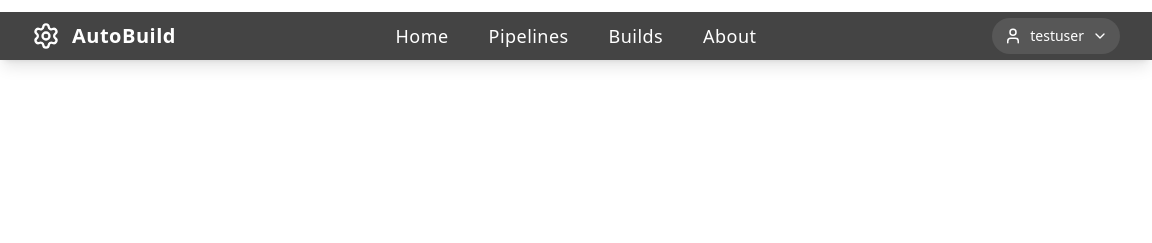
Test: NavBar › Profile Dropdown Menu › closes dropdown when profile button is clicked again
Expected: the text "testuser" is shown, left=1030, top=26, right=1084, bottom=46
Open dropdown
Click the button "testuser": point(1056, 36) left=992, top=18, right=1120, bottom=54
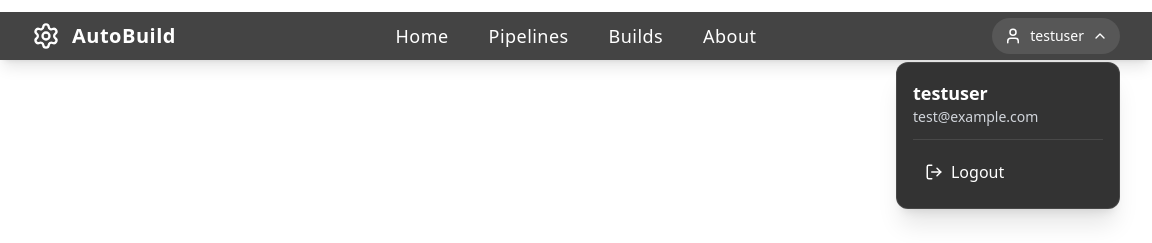
Now the text "test@example.com" is shown, box left=913, top=107, right=1038, bottom=126
Close dropdown
Click the button "testuser": point(1056, 36) left=992, top=18, right=1120, bottom=54
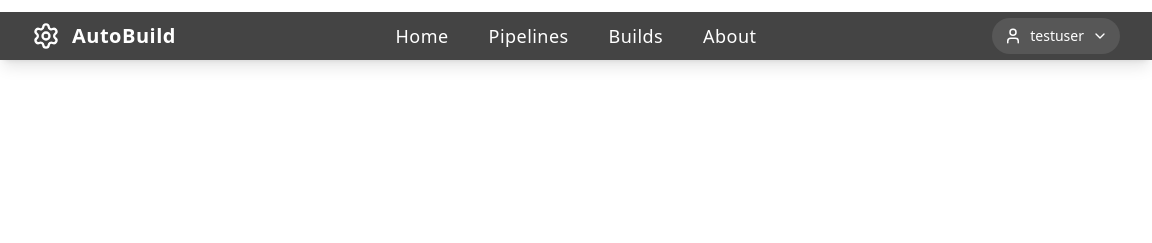
Now the text "test@example.com" is gone
